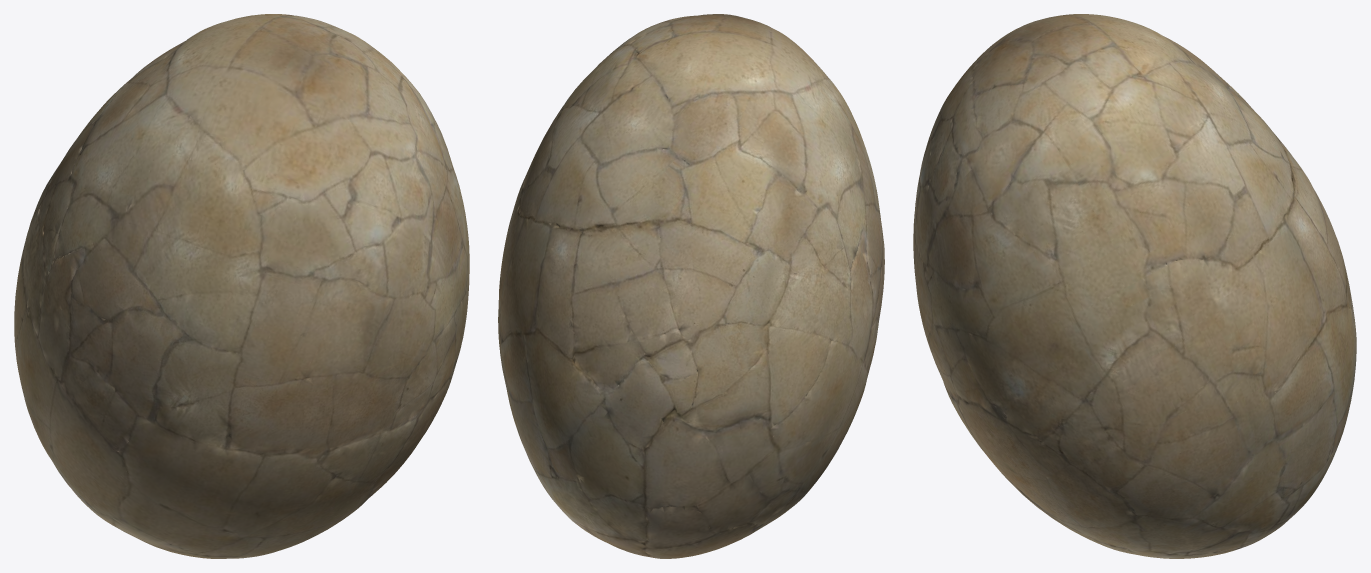
File: earth3d-elephant-bird-egg.glb
3 views of the same model, side by side, from view 1: azimuth 30°, elevation 25°; view 2: azimuth 150°, elevation 25°; view 3: azimuth 270°, elevation 25° (orthographic). The views are drawn at different scales.
Visible parts, largest first — view 1: Object_2; view 2: Object_2; view 3: Object_2.
Boxes of the visible parts, bbox=[...] form: Object_2: bbox=[14, 14, 469, 558]; Object_2: bbox=[498, 14, 884, 558]; Object_2: bbox=[913, 14, 1356, 558].
Bounding box in the file's own units: 232 × 314 × 243.
Materials: 1 (1 with a texture image).
